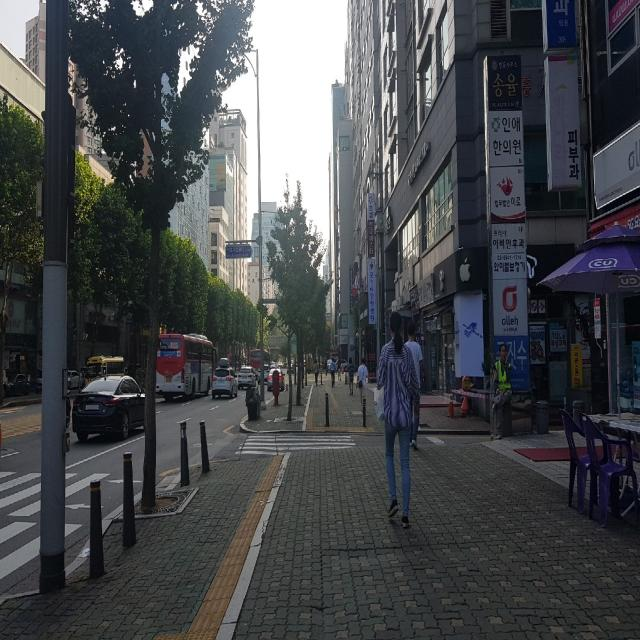횡단보도: (0, 469, 100, 567), (234, 435, 358, 455)
